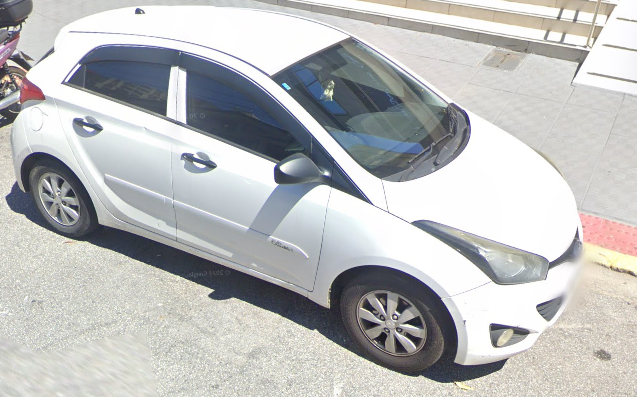car: (9, 6, 585, 375)
